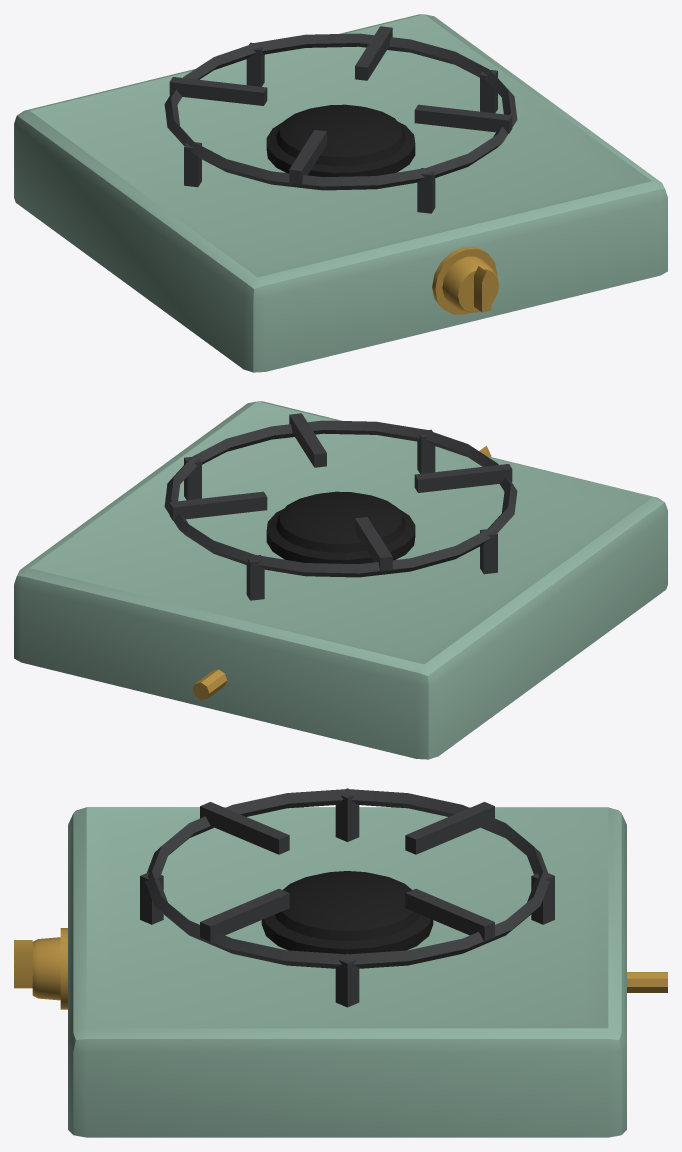
Rendered from gas_stove.glb.
3 renders of one model, top to bottom at view 1: azimuth 30°, elevation 25°; view 2: azimuth 150°, elevation 25°; view 3: azimuth 270°, elevation 25°, orthographic. The views are drawn at different scales.
Visible parts, largest first — view 1: body, grate, burner_cap, knob; view 2: body, grate, burner_cap; view 3: body, grate, burner_cap, knob.
Part boxes in pixels (<box>): body: <box>14,14,667,372</box>; grate: <box>164,26,517,213</box>; burner_cap: <box>266,104,415,177</box>; knob: <box>432,246,498,314</box>; body: <box>14,401,667,759</box>; grate: <box>164,413,517,600</box>; burner_cap: <box>266,491,415,564</box>; body: <box>68,807,667,1137</box>; grate: <box>140,788,554,1007</box>; burner_cap: <box>261,871,433,954</box>; knob: <box>14,928,67,1009</box>.
Size of the model in its own units: 0.3 by 0.1 by 0.351.
